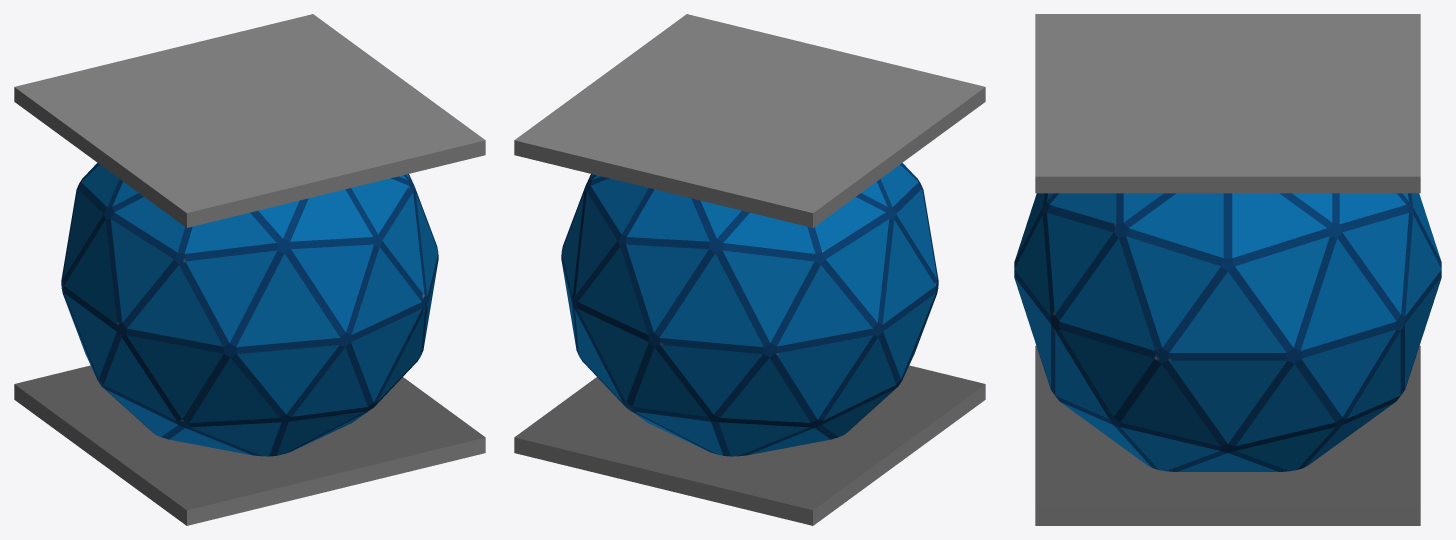
The model's file is Floor3.glb.
The picture shows the model from 3 angles, left to right: view 1: azimuth 30°, elevation 25°; view 2: azimuth 150°, elevation 25°; view 3: azimuth 270°, elevation 25°; orthographic projection. The views are drawn at different scales.
Parts seen in each view (by area): view 1: Cube, Icosphere; view 2: Cube, Icosphere; view 3: Cube, Icosphere.
Part boxes in pixels (bbox=[...]): Cube: bbox=[14, 14, 485, 525]; Icosphere: bbox=[61, 163, 438, 456]; Cube: bbox=[514, 14, 985, 525]; Icosphere: bbox=[561, 163, 938, 456]; Cube: bbox=[1035, 14, 1420, 525]; Icosphere: bbox=[1014, 193, 1441, 471].
Bounding box in the file's own units: 17.07 × 16 × 17.75.
2 materials, 2 textured.
